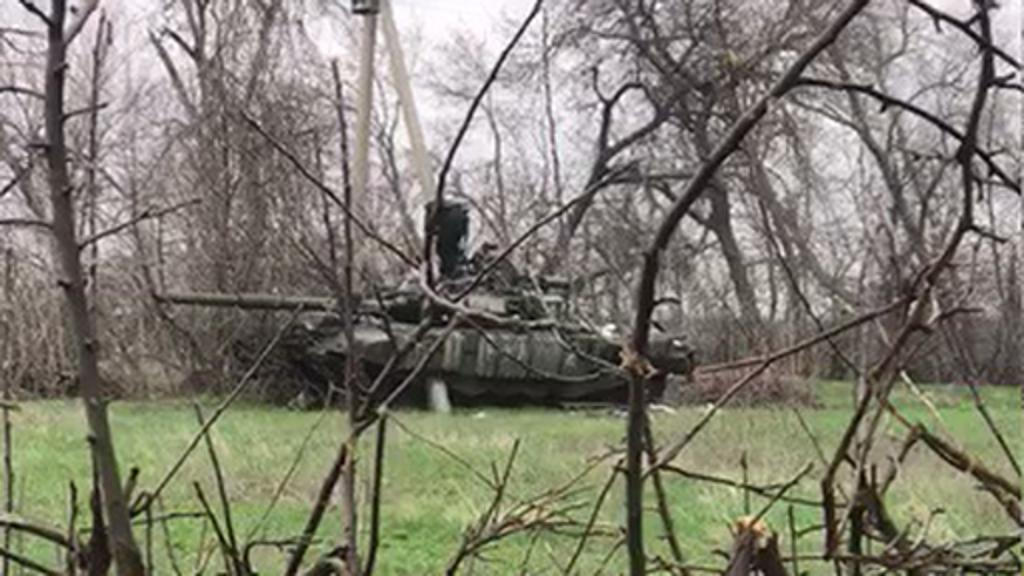TANK: (136, 236, 696, 418)
